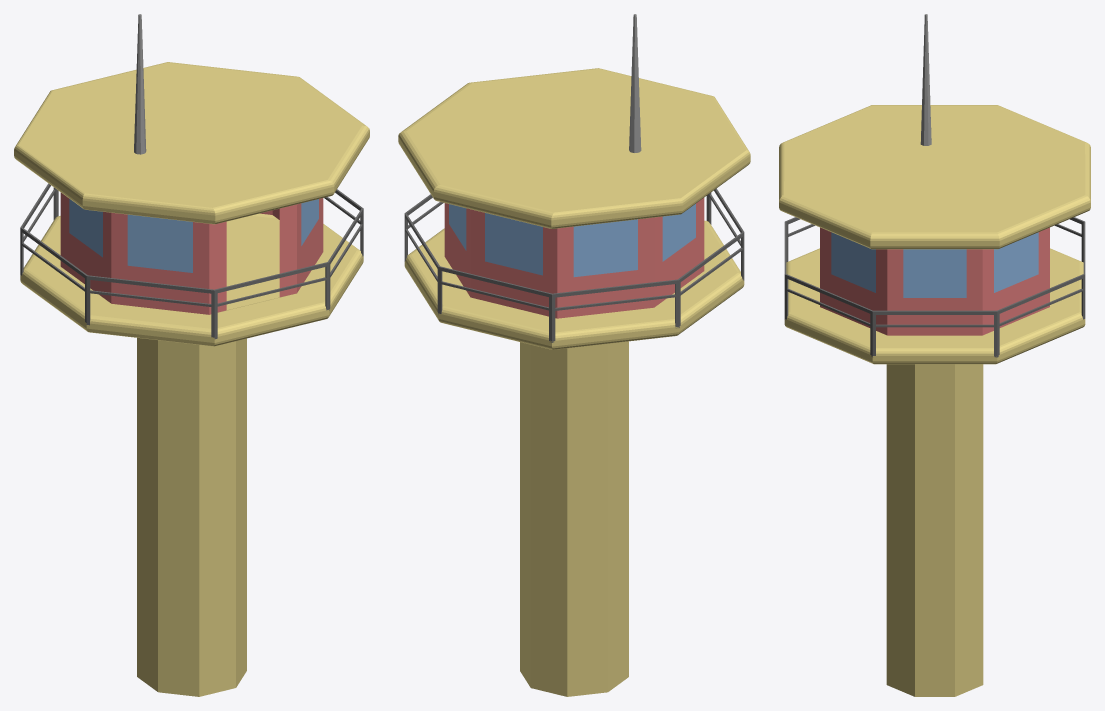
File: Mirador.fbx
The picture shows the model from 3 angles, left to right: view 1: azimuth 30°, elevation 25°; view 2: azimuth 150°, elevation 25°; view 3: azimuth 270°, elevation 25°; orthographic projection. The views are drawn at different scales.
Visible parts, largest first — view 1: Circle.008; view 2: Circle.008; view 3: Circle.008.
Part boxes in pixels (x1,y1,x2,y2): Circle.008: (14, 14, 369, 696); Circle.008: (398, 14, 750, 696); Circle.008: (779, 14, 1090, 696).
Size of the model in its own units: 788 by 1773 by 788.
